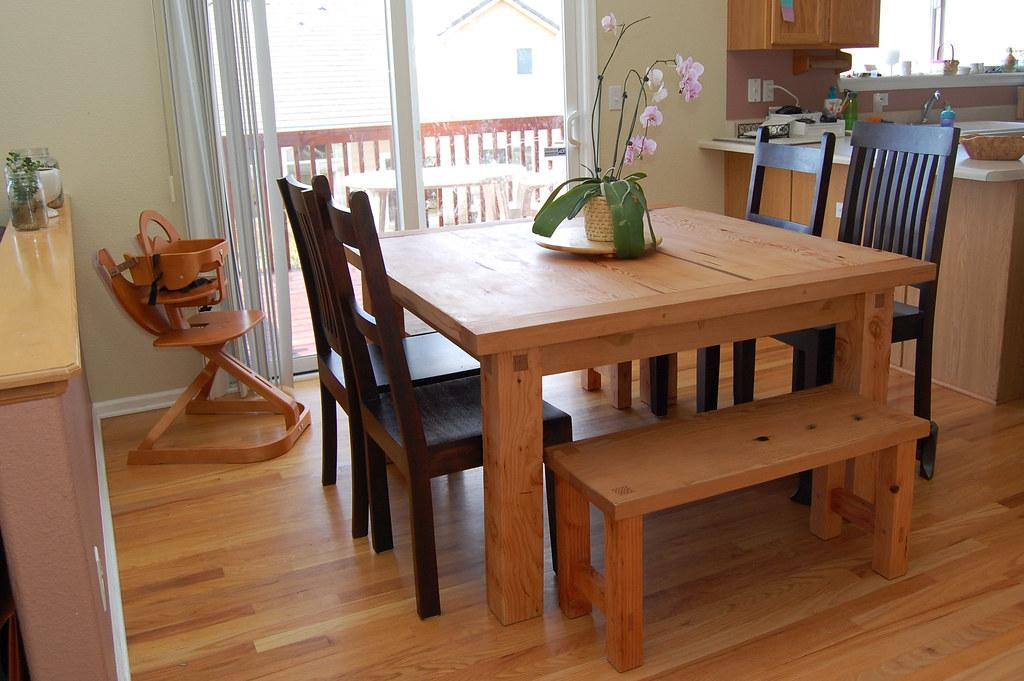table: (340, 203, 940, 627)
